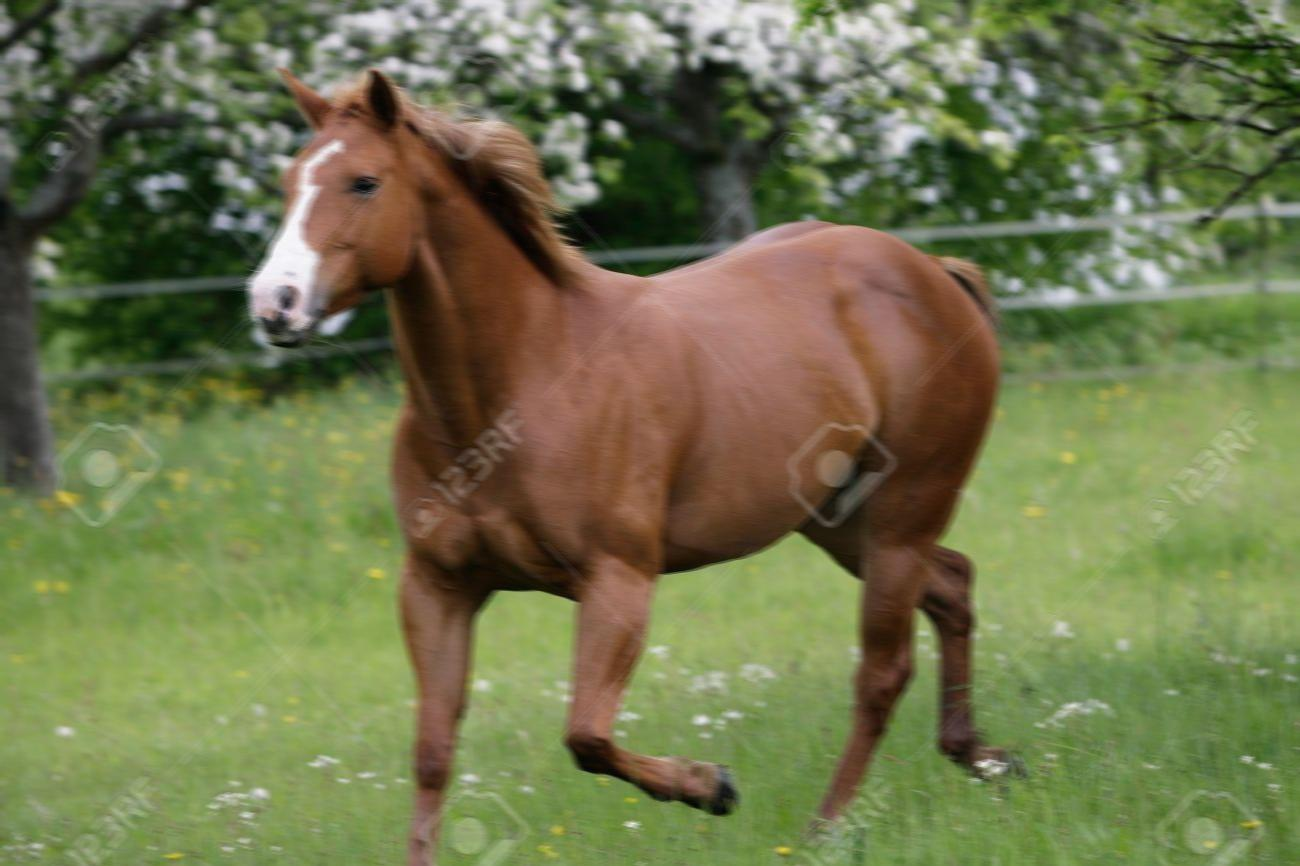horse: (234, 52, 1034, 866)
